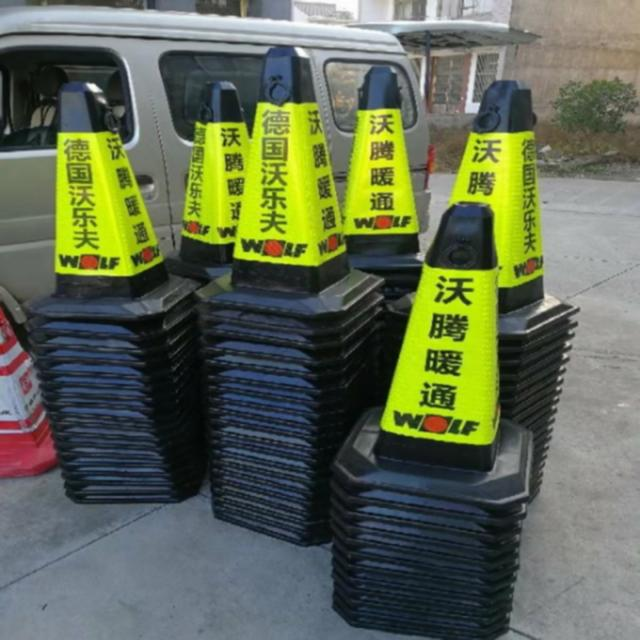car: (3, 6, 426, 300)
reflective_cone: (337, 203, 533, 501), (191, 41, 384, 314), (24, 83, 195, 314), (446, 78, 578, 334), (341, 62, 427, 268), (165, 78, 246, 281)
